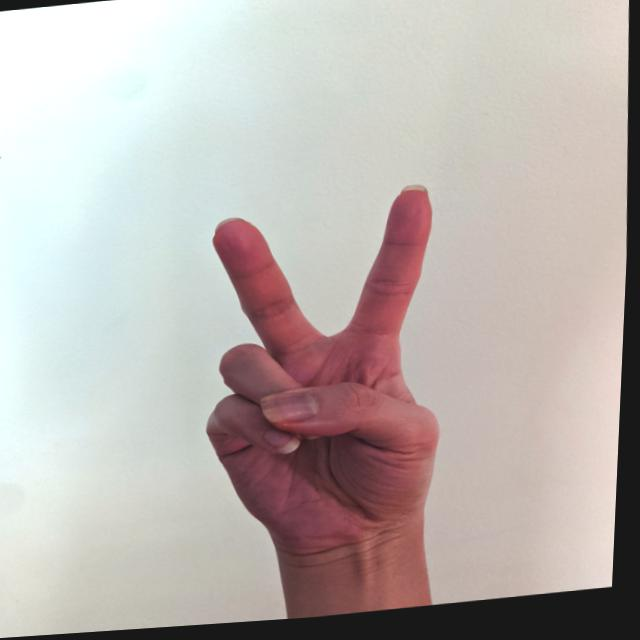V: (190, 183, 463, 579)
